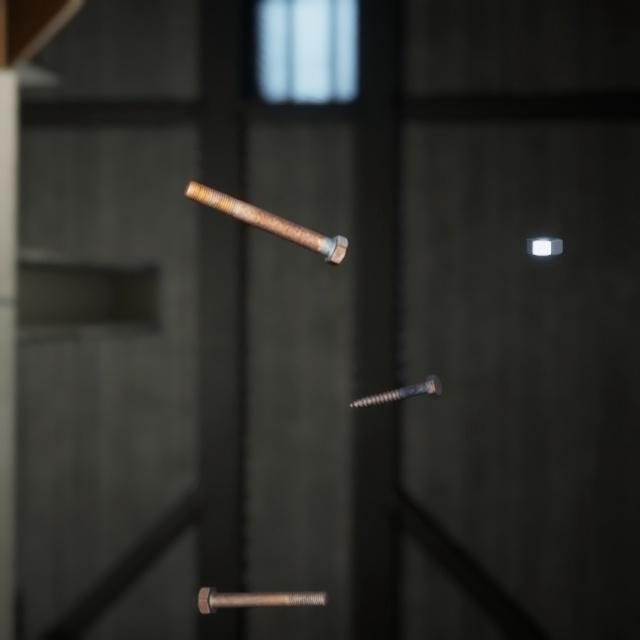bolt: (179, 160, 352, 254), (193, 559, 333, 594), (345, 351, 446, 393)
nut: (522, 216, 567, 244)
